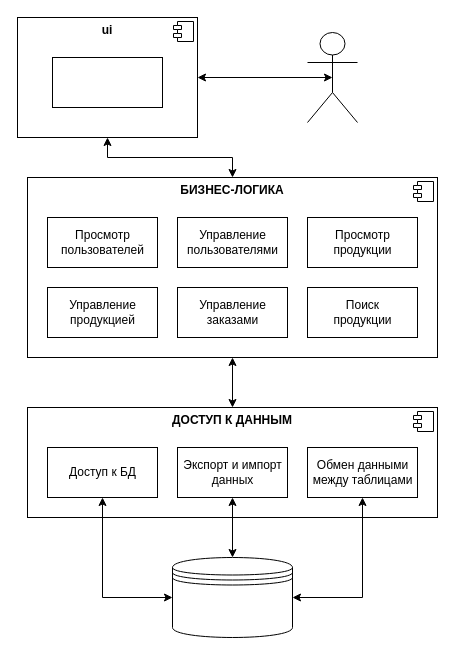
This 455x655 diagram has some shape labels left out. Each missing label, with the centre of its shape:
QT: point (107, 82)
БД: point (232, 597)
ПОЛЬЗОВАТЕЛЬ: point (332, 77)
